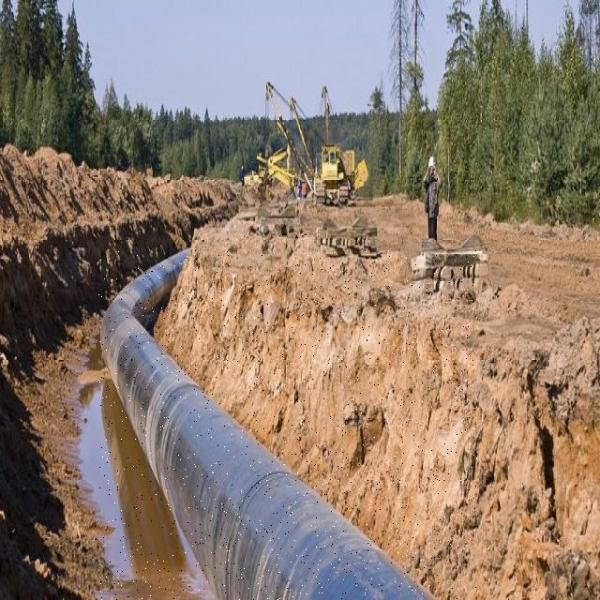water accumulation: (74, 335, 202, 580)
